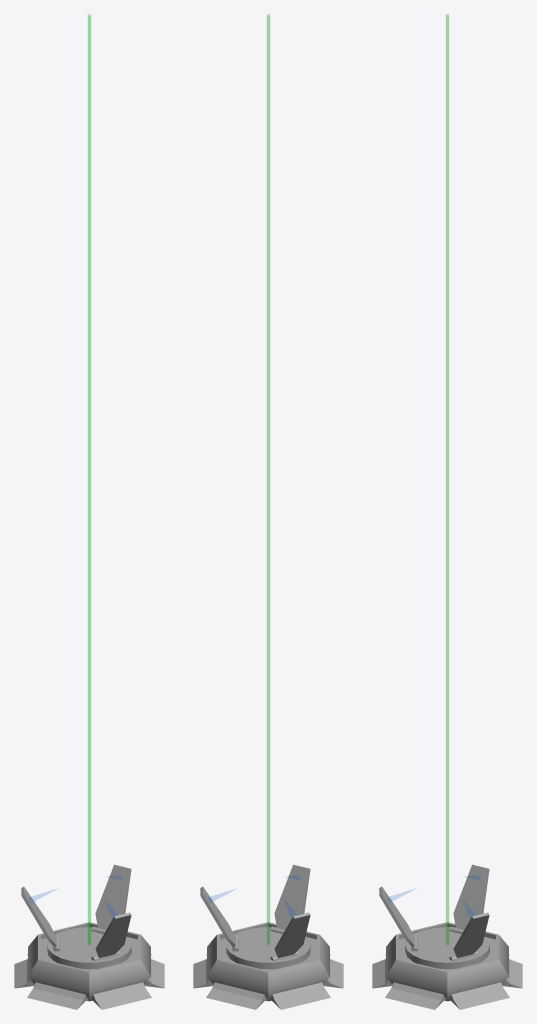
The model's file is smallSignal.fbx.
3 views of the same model, side by side, from view 1: azimuth 30°, elevation 25°; view 2: azimuth 150°, elevation 25°; view 3: azimuth 270°, elevation 25° (orthographic).
Visible parts, largest first — view 1: polySurface7; view 2: polySurface7; view 3: polySurface7.
Part boxes in pixels (<box>): polySurface7: <box>14,14,164,1009</box>; polySurface7: <box>193,14,343,1009</box>; polySurface7: <box>372,14,522,1009</box>.
Bounding box in the file's own units: 268 × 1783 × 253.
